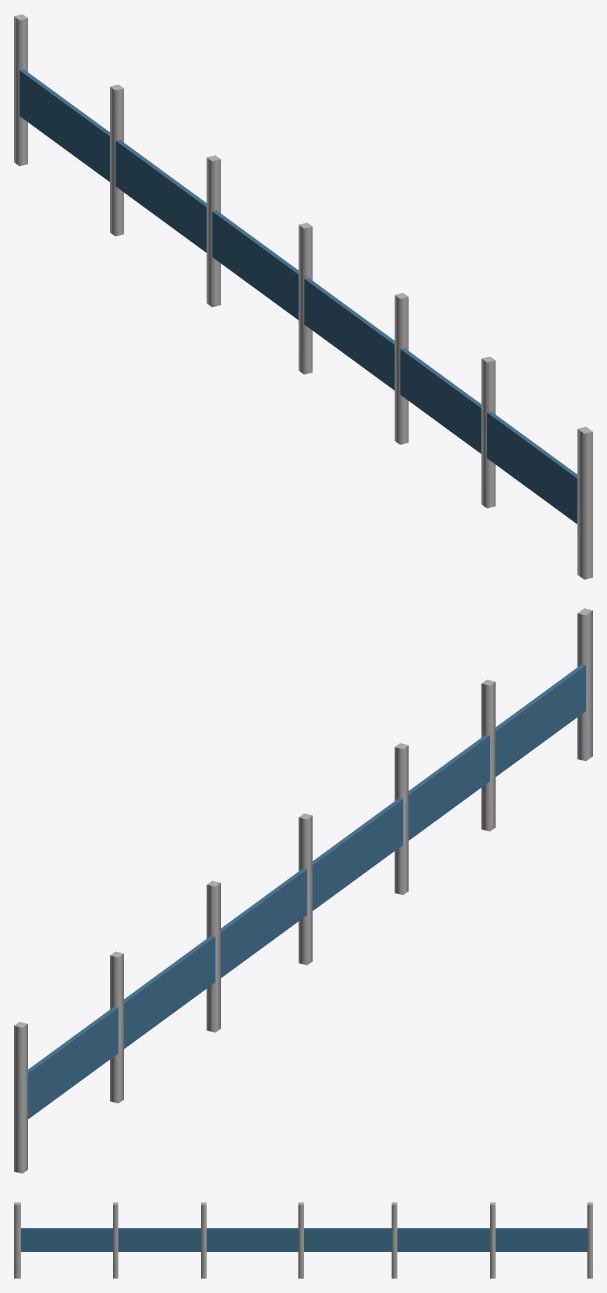
File: SM_City_Fence1.fbx
3 renders of one model, top to bottom at view 1: azimuth 30°, elevation 25°; view 2: azimuth 150°, elevation 25°; view 3: azimuth 270°, elevation 25°, orthographic. The views are drawn at different scales.
Visible parts, largest first — view 1: SM_City_Fence1; view 2: SM_City_Fence1; view 3: SM_City_Fence1.
Boxes of the visible parts, x1,y1,x2,y2 form: SM_City_Fence1: (14, 14, 592, 579); SM_City_Fence1: (14, 608, 592, 1173); SM_City_Fence1: (14, 1202, 592, 1278).
Size of the model in its own units: 25.57 by 412 by 2919.
Materials: 1 (1 with a texture image).
